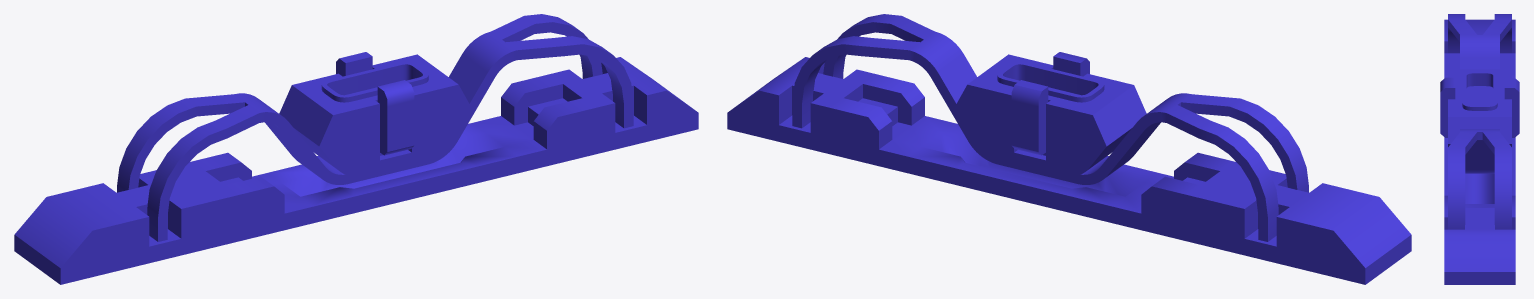
Rendered from Ceiling_A_4x05m.FBX.
3 views of the same model, side by side, from view 1: azimuth 30°, elevation 25°; view 2: azimuth 150°, elevation 25°; view 3: azimuth 270°, elevation 25° (orthographic). The views are drawn at different scales.
Visible parts, largest first — view 1: Ceiling_A_4x05m; view 2: Ceiling_A_4x05m; view 3: Ceiling_A_4x05m.
Boxes of the visible parts, x1=… form: Ceiling_A_4x05m: x1=14, y1=14, x2=698, y2=284; Ceiling_A_4x05m: x1=727, y1=14, x2=1411, y2=284; Ceiling_A_4x05m: x1=1440, y1=14, x2=1519, y2=284.
Bounding box in the file's own units: 400 × 72.07 × 55.65.
